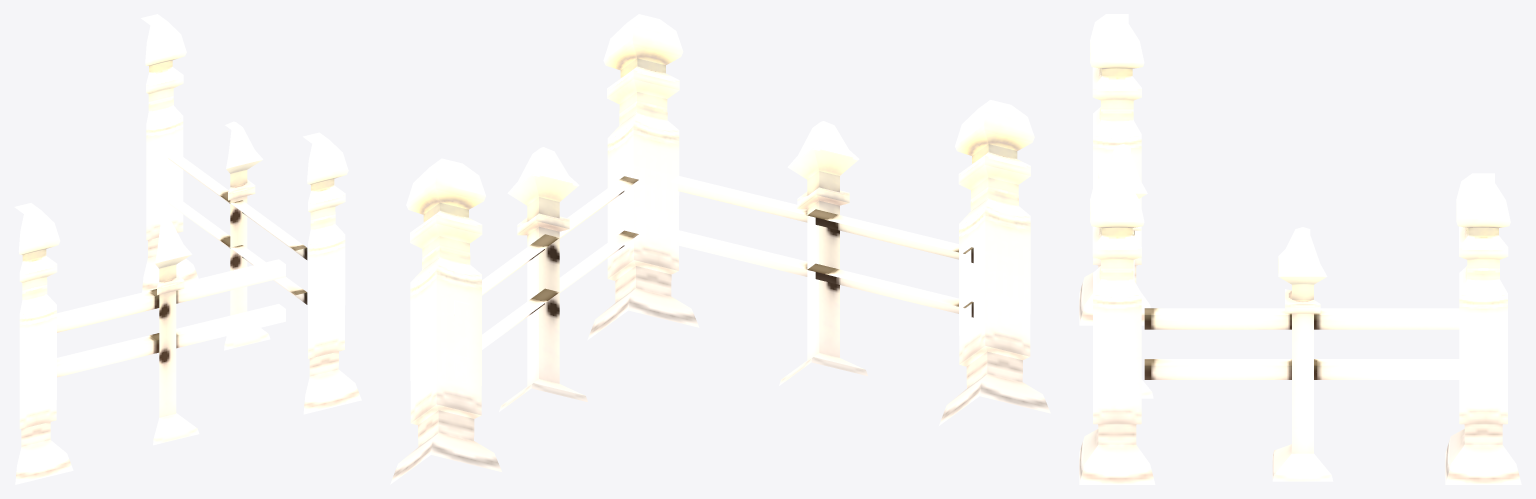
File: LineDeco_Fence(Corner).fbx
The picture shows the model from 3 angles, left to right: view 1: azimuth 30°, elevation 25°; view 2: azimuth 150°, elevation 25°; view 3: azimuth 270°, elevation 25°; orthographic projection. The views are drawn at different scales.
Parts seen in each view (by area): view 1: Deco_Fence_Line(Conner); view 2: Deco_Fence_Line(Conner); view 3: Deco_Fence_Line(Conner).
Part boxes in pixels (x1=…): Deco_Fence_Line(Conner): x1=14, y1=14, x2=361, y2=484; Deco_Fence_Line(Conner): x1=390, y1=14, x2=1050, y2=484; Deco_Fence_Line(Conner): x1=1079, y1=14, x2=1521, y2=484.
Bounding box in the file's own units: 349 × 247 × 341.
